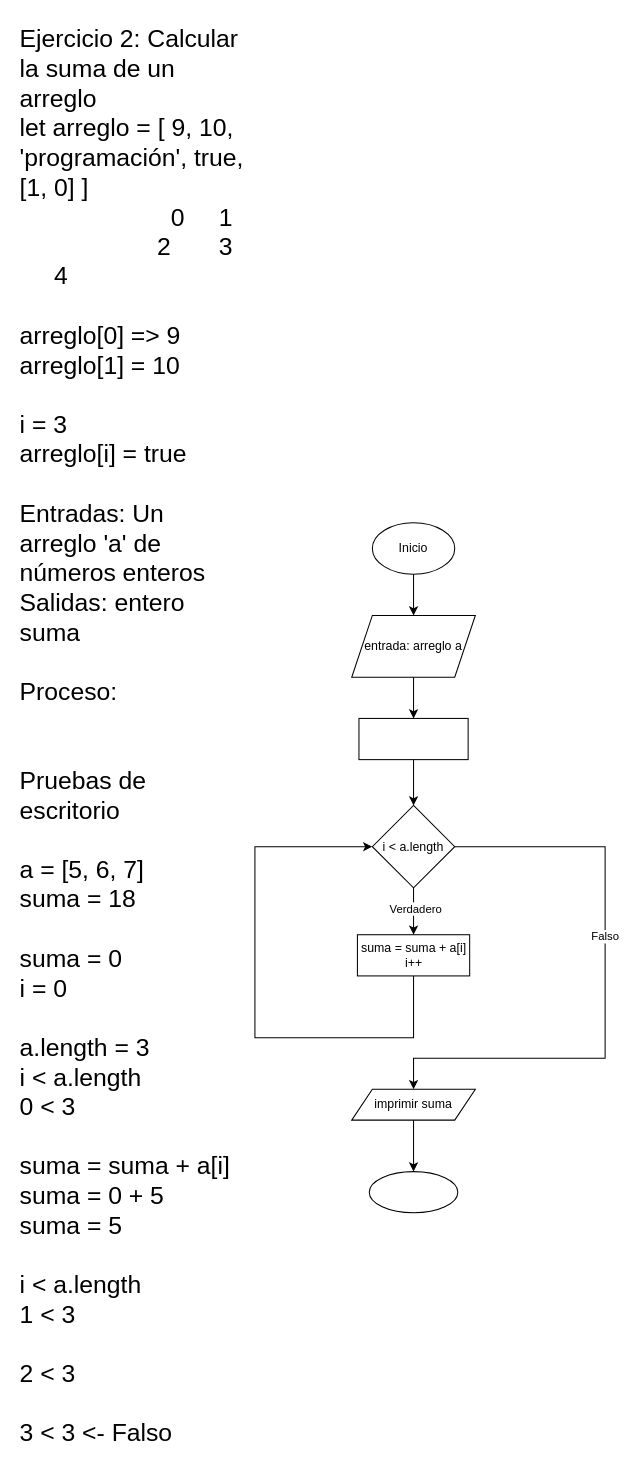
The diagram is 636 pixels wide and 1466 high, and some of its shapes have lost their labels. The centre of each missing label's shape, as x and y in pixels:
Fin: the point at 413,1192
suma = 0 i = 0: the point at 413,738
